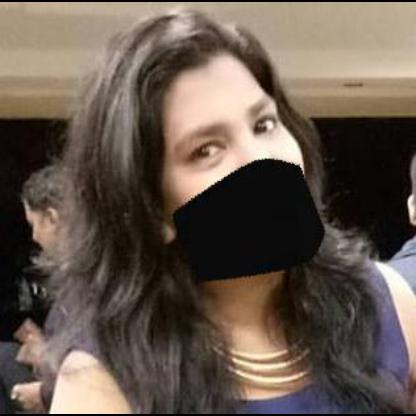Fabric/Cloth Mask: (127, 76, 319, 250)
